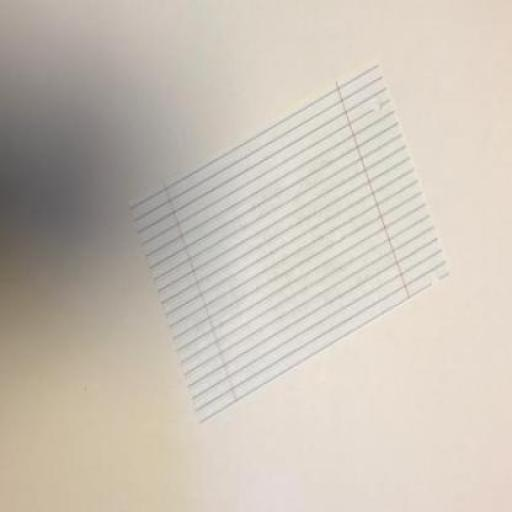paper: (128, 55, 450, 424)
